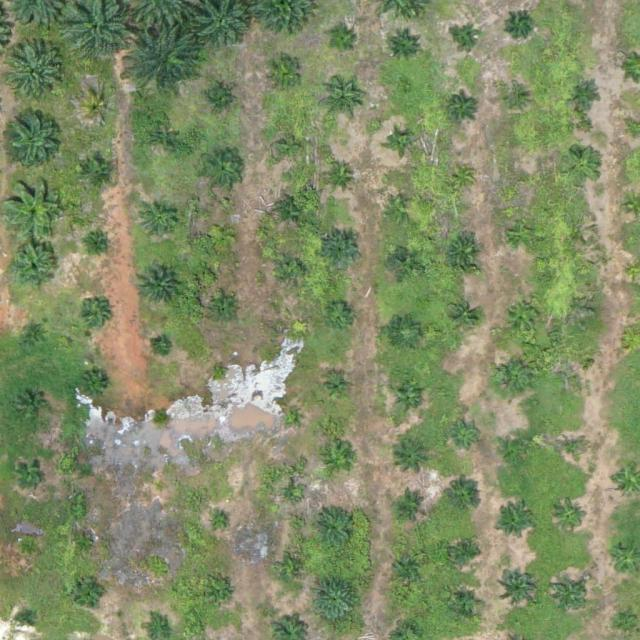Healthy: (128, 21, 206, 100), (3, 177, 65, 240), (11, 48, 66, 103), (7, 108, 62, 163), (270, 128, 310, 167)
Small: (8, 240, 63, 295), (313, 576, 360, 624), (136, 262, 183, 310), (311, 505, 358, 552), (322, 83, 362, 123), (499, 565, 538, 605), (394, 438, 434, 477), (263, 55, 303, 94), (493, 357, 532, 397), (446, 233, 485, 273), (323, 231, 363, 270), (443, 481, 483, 520), (496, 505, 535, 544), (551, 576, 590, 615), (204, 152, 243, 191), (141, 201, 180, 240), (504, 297, 543, 336), (564, 147, 603, 186), (144, 120, 183, 159), (555, 501, 586, 533), (75, 577, 106, 609), (391, 318, 422, 350), (390, 244, 421, 276), (277, 196, 308, 228), (325, 160, 356, 192), (278, 254, 309, 286), (202, 84, 233, 116), (208, 221, 239, 253), (325, 300, 356, 332), (449, 300, 480, 332), (558, 434, 589, 466), (503, 433, 534, 465), (451, 419, 482, 451), (394, 382, 425, 414), (83, 157, 114, 188), (390, 31, 421, 62), (325, 446, 356, 477), (448, 92, 479, 123), (571, 79, 602, 110), (508, 220, 539, 251), (385, 195, 416, 226), (328, 28, 359, 59), (211, 296, 242, 327), (450, 537, 481, 568), (451, 590, 482, 621), (393, 550, 424, 581), (396, 490, 427, 521), (322, 373, 353, 404), (80, 300, 111, 331), (81, 371, 112, 402), (17, 458, 48, 489), (17, 391, 48, 422), (21, 320, 52, 351), (509, 12, 533, 36), (451, 165, 475, 189), (390, 131, 414, 155), (211, 584, 234, 608), (457, 28, 480, 52), (505, 89, 528, 113), (513, 170, 536, 194), (564, 356, 587, 380), (17, 537, 41, 560), (76, 533, 99, 557), (616, 611, 639, 634), (154, 339, 170, 355), (212, 515, 228, 531), (282, 409, 298, 424), (285, 489, 301, 504), (287, 562, 302, 578), (212, 363, 228, 378), (19, 612, 34, 628), (92, 237, 108, 252), (154, 481, 169, 497)
Yellow: (84, 95, 115, 126)
